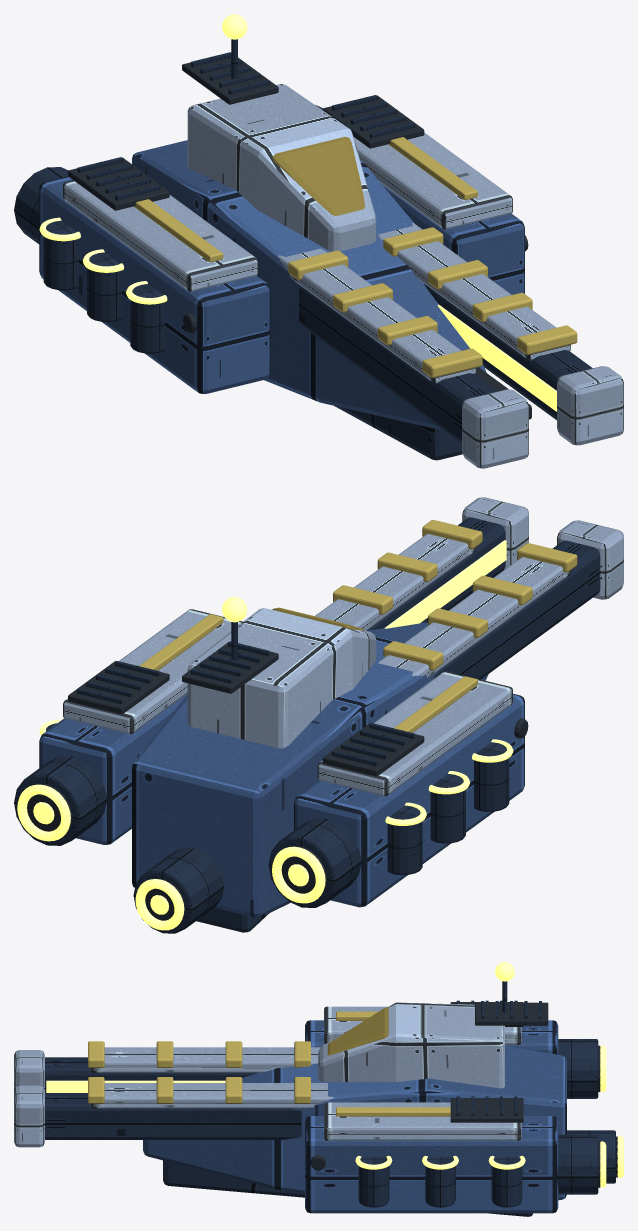
File: railgun.glb
3 renders of one model, top to bottom at view 1: azimuth 30°, elevation 25°; view 2: azimuth 150°, elevation 25°; view 3: azimuth 270°, elevation 25°, orthographic. The views are drawn at different scales.
Visible parts, largest first — view 1: Surface_Ceramic_Armor, Surface_Titanium_Panels, Surface_Brushed_Steel, Surface_railgun_Faction_Enamel, Surface_Recess_Carbon, Surface_railgun_Glazed_Optics, Surface_railgun_Reactor; view 2: Surface_Titanium_Panels, Surface_Ceramic_Armor, Surface_Brushed_Steel, Surface_railgun_Reactor, Surface_railgun_Faction_Enamel, Surface_Recess_Carbon; view 3: Surface_Titanium_Panels, Surface_Ceramic_Armor, Surface_Brushed_Steel, Surface_railgun_Faction_Enamel, Surface_Recess_Carbon, Surface_railgun_Reactor, Surface_railgun_Glazed_Optics.
Boxes of the visible parts, x1,y1,x2,y2 form: Surface_Ceramic_Armor: (63, 84, 623, 468); Surface_Titanium_Panels: (39, 140, 524, 430); Surface_Brushed_Steel: (14, 39, 592, 460); Surface_railgun_Faction_Enamel: (134, 137, 577, 377); Surface_Recess_Carbon: (68, 57, 531, 419); Surface_railgun_Glazed_Optics: (272, 136, 365, 215); Surface_railgun_Reactor: (39, 14, 556, 411); Surface_Titanium_Panels: (39, 622, 524, 917); Surface_Ceramic_Armor: (63, 497, 623, 796); Surface_Brushed_Steel: (14, 517, 600, 933); Surface_railgun_Reactor: (17, 540, 513, 930); Surface_railgun_Faction_Enamel: (139, 520, 577, 732); Surface_Recess_Carbon: (27, 642, 528, 920); Surface_Titanium_Panels: (143, 1020, 566, 1213); Surface_Ceramic_Armor: (14, 1002, 521, 1147); Surface_Brushed_Steel: (45, 981, 615, 1216); Surface_railgun_Faction_Enamel: (88, 1011, 450, 1116); Surface_Recess_Carbon: (310, 1002, 617, 1187); Surface_railgun_Reactor: (46, 962, 623, 1187); Surface_railgun_Glazed_Optics: (327, 1007, 388, 1055).
Size of the model in its own units: 1.53 by 1.21 by 2.75.
Materials: 7 (3 with a texture image).
